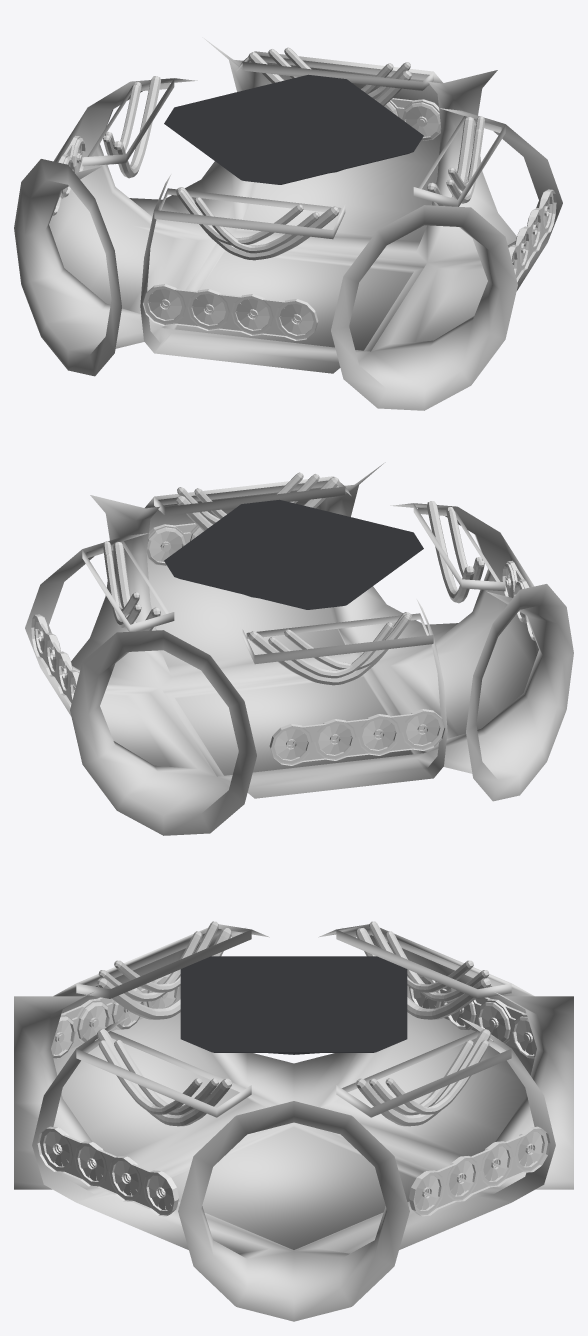
File: lacznik_z_wiatrakami.glb
3 views of the same model, one above another, from view 1: azimuth 30°, elevation 25°; view 2: azimuth 150°, elevation 25°; view 3: azimuth 270°, elevation 25° (orthographic). The views are drawn at different scales.
Visible parts, largest first — view 1: Cross Joint.003, urzadzenie, wiatrak.003, wiatrak, wiatrak.001, wiatrak.002, srubki; view 2: Cross Joint.003, urzadzenie, wiatrak.003, wiatrak, wiatrak.001, wiatrak.002, srubki; view 3: Cross Joint.003, urzadzenie, wiatrak.001, wiatrak.002, wiatrak.003, wiatrak, srubki.
Part boxes in pixels (x1,y1,x2,y2): Cross Joint.003: (14, 37, 562, 410); urzadzenie: (52, 98, 556, 340); wiatrak.003: (148, 106, 550, 319); wiatrak: (54, 104, 538, 324); wiatrak.001: (65, 161, 526, 329); wiatrak.002: (76, 143, 514, 334); srubki: (76, 116, 549, 324); Cross Joint.003: (25, 462, 573, 835); urzadzenie: (31, 523, 535, 765); wiatrak.003: (37, 531, 439, 744); wiatrak: (49, 529, 533, 749); wiatrak.001: (61, 586, 522, 754); wiatrak.002: (73, 568, 511, 759); srubki: (38, 541, 511, 749); Cross Joint.003: (14, 921, 573, 1321); urzadzenie: (37, 973, 550, 1216); wiatrak.001: (79, 1006, 508, 1180); wiatrak.002: (45, 1020, 542, 1166); wiatrak.003: (148, 976, 439, 1210); wiatrak: (114, 1000, 473, 1195); srubki: (52, 992, 535, 1198).
Bounding box in the file's own units: 20 × 8.7 × 20.
Materials: 2 (1 with a texture image).
